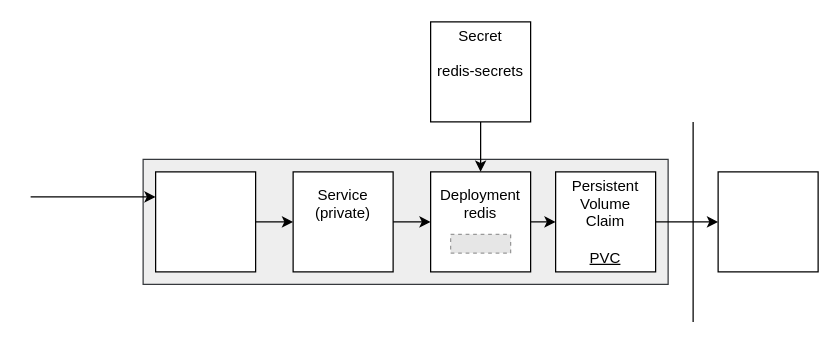
Image size: 840x345. Some labels were removed from this diagram. Grey dashed boxes stand in for pictures. The shapes that lost their labels are listed below. From the top down, each one's box as (x1, y1, x2, y2) in pixels, then its label:
(154, 171, 256, 272): Service(public) redis-service :6379 .
(717, 171, 818, 272): Persistent Volume PV (6Gi)
